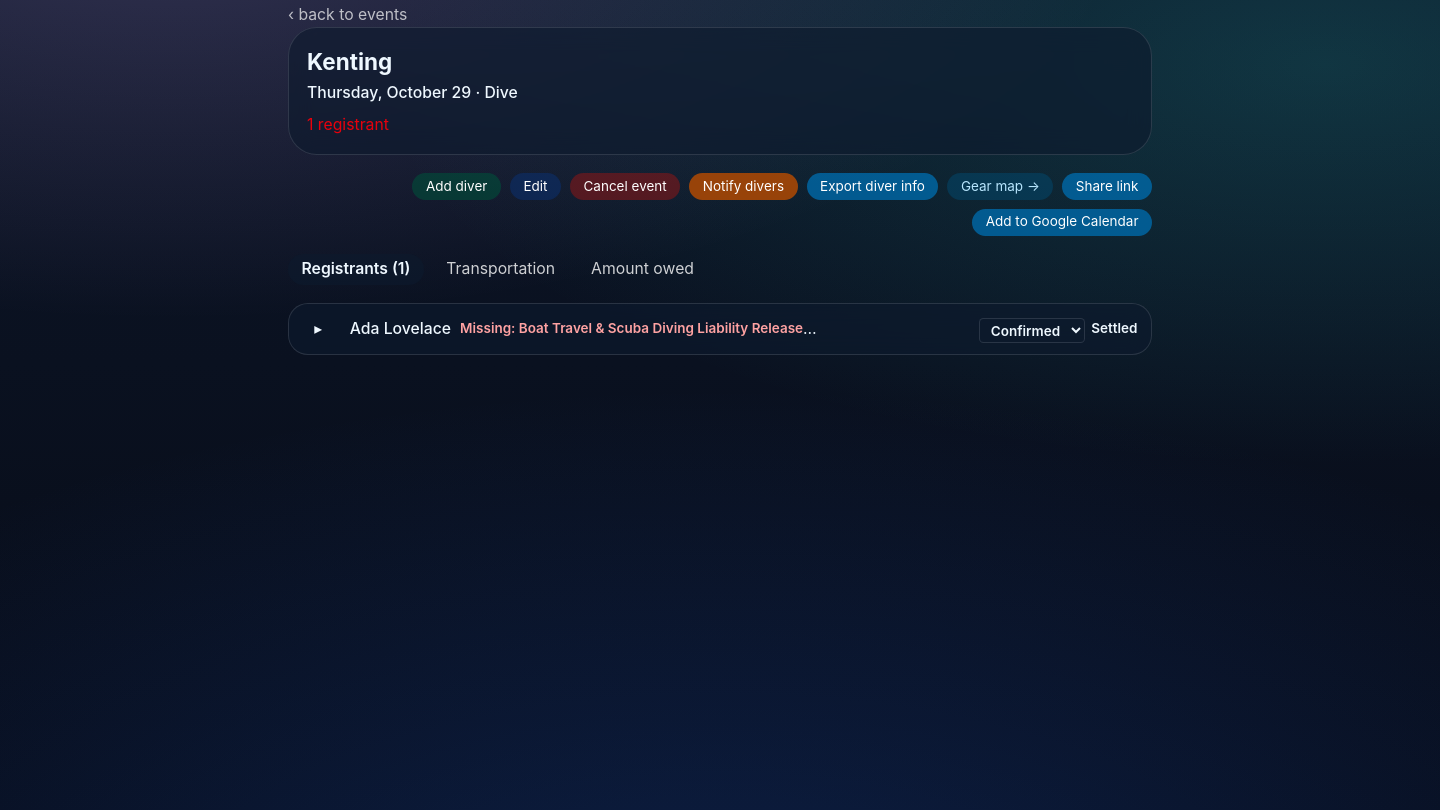
AdminEventDetailPage › lets an admin mark missing waivers as done in person, flipping the badge to OK
This screenshot has width=1440, height=810.
Expected: the text "Ada Lovelace" is shown, [350,318,451,337]
Click the button "Mark done in person" at {"x": 891, "y": 329}, box [810,315,973,344]
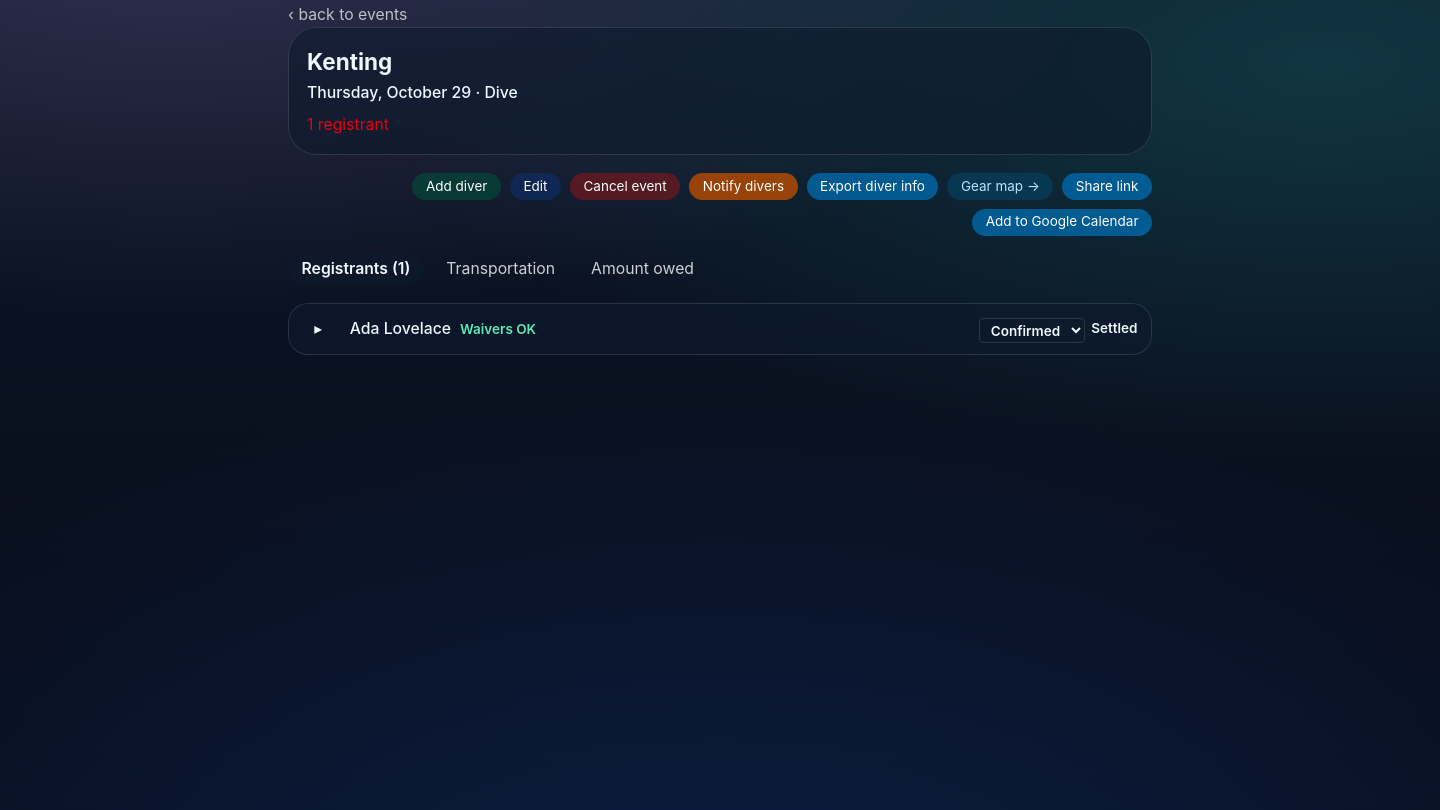
Result: the text "Waivers OK" is shown at [460,321,536,337]
